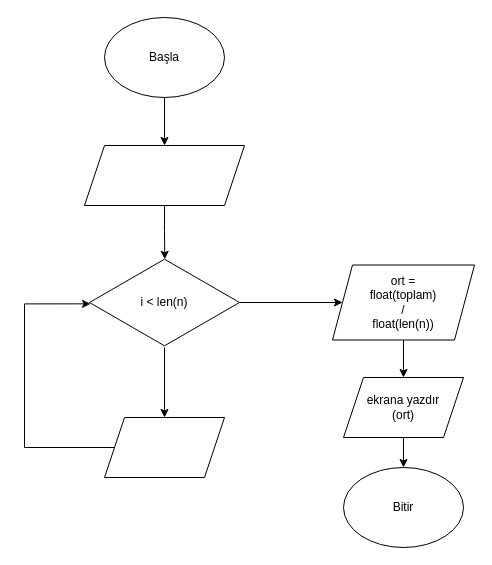
The diagram is 492 pixels wide and 565 high, and some of its shapes have lost their labels. Each missing label, with the box of its shape:
Tanımla (n dizi, i, toplam,ort): (84, 144, 244, 206)
toplam += n[i]: (104, 416, 224, 478)
